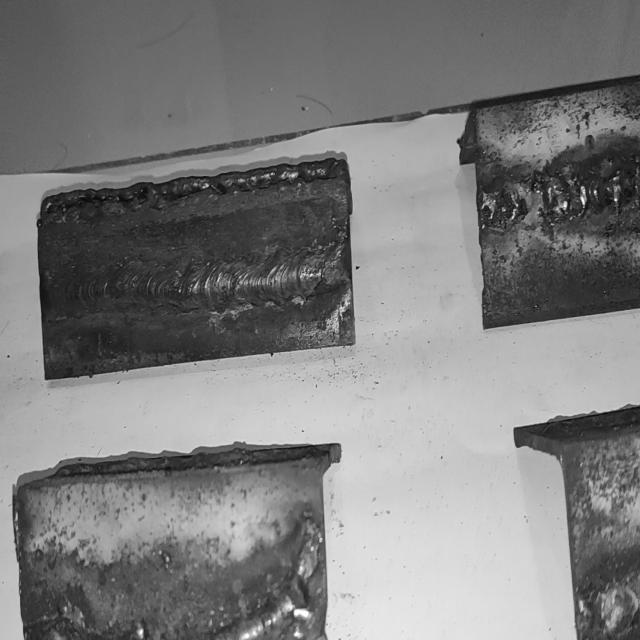Defect: (206, 536, 319, 640), (492, 153, 594, 242), (573, 127, 640, 228)
Good Weld: (45, 251, 348, 316)
